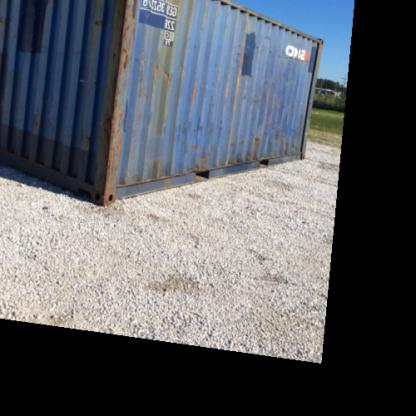Damage: (94, 82, 130, 190), (107, 5, 138, 80), (251, 41, 313, 69), (233, 19, 246, 101), (166, 118, 216, 139), (181, 71, 201, 117), (216, 128, 263, 146), (272, 127, 298, 154), (186, 140, 208, 171), (212, 151, 260, 164), (151, 56, 173, 84), (149, 153, 168, 178), (87, 13, 106, 33), (252, 84, 268, 105), (278, 74, 302, 86)
